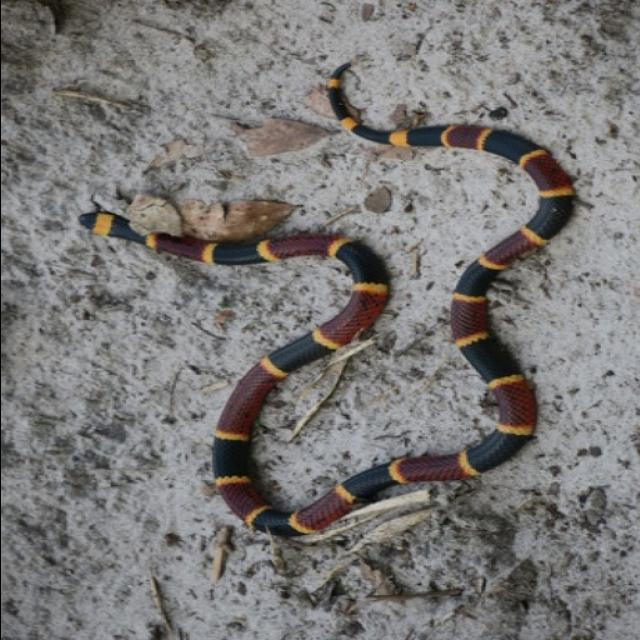snake: (70, 64, 588, 550)
